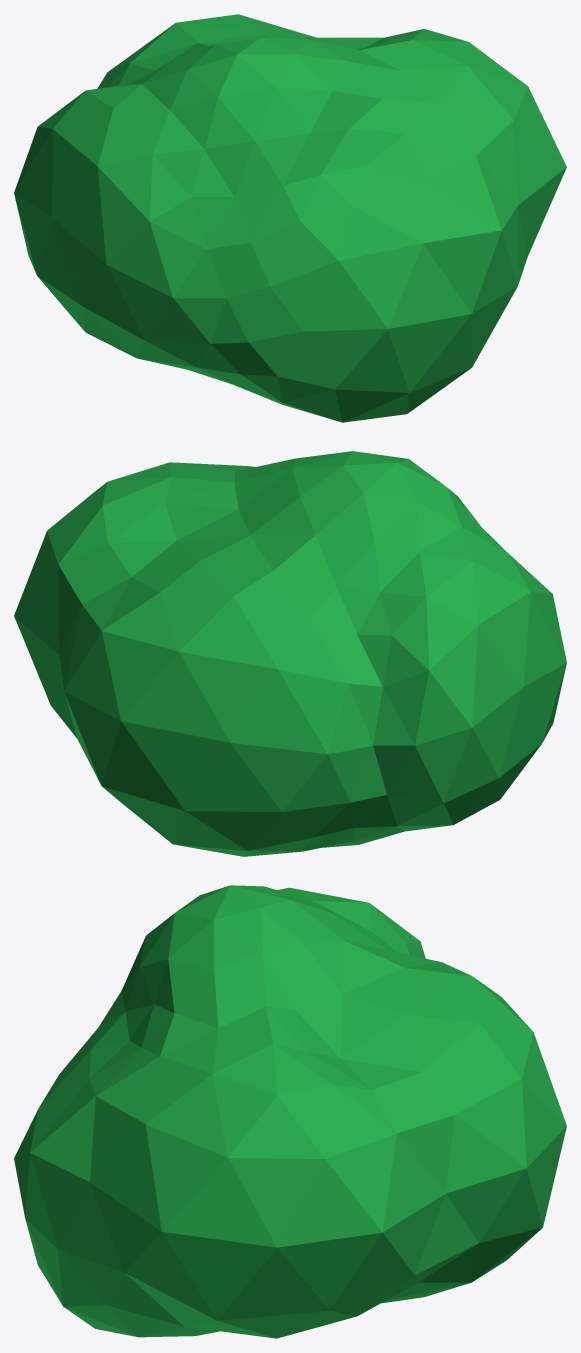
File: Kust.fbx
3 renders of one model, top to bottom at view 1: azimuth 30°, elevation 25°; view 2: azimuth 150°, elevation 25°; view 3: azimuth 270°, elevation 25°, orthographic. The views are drawn at different scales.
Parts seen in each view (by area): view 1: Куст; view 2: Куст; view 3: Куст.
Part boxes in pixels (x1,y1,x2,y2): Куст: (14,14,566,422); Куст: (14,451,566,856); Куст: (14,885,566,1338).
Bounding box in the file's own units: 69.06 × 49.28 × 63.12.
